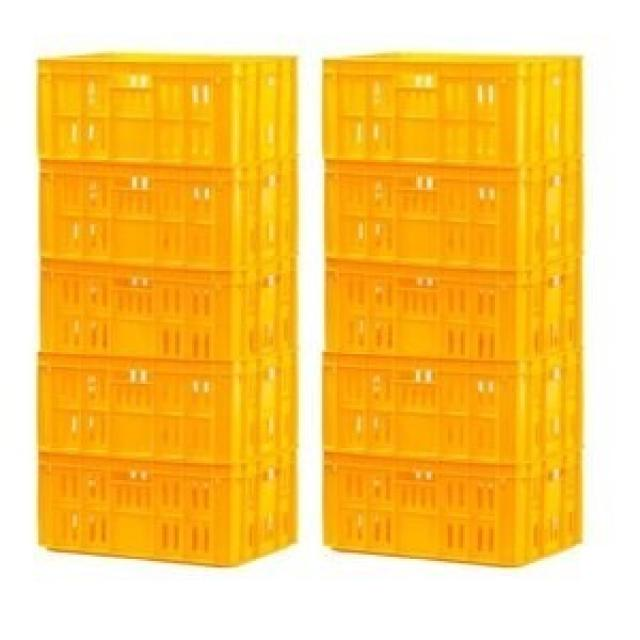basket: (38, 55, 297, 566), (326, 55, 582, 566)
